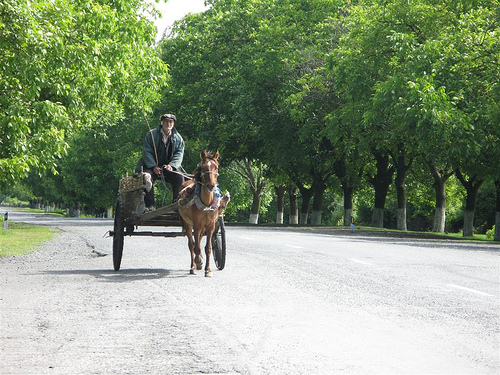horse: (175, 150, 225, 278)
